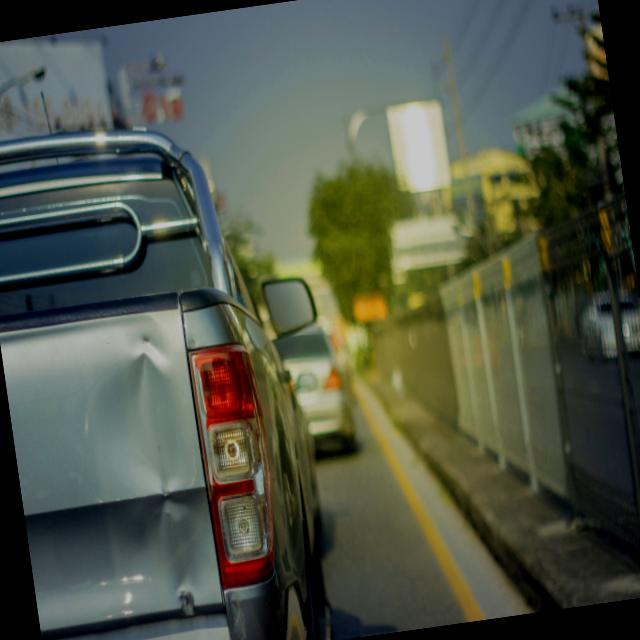Cabossage: (78, 323, 234, 632)
Phare abime: (181, 353, 229, 499), (240, 451, 286, 560)
